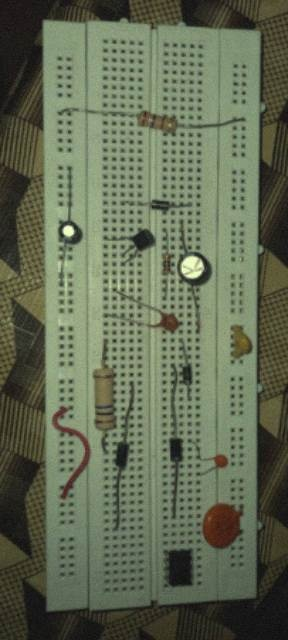capacitor: (202, 503, 241, 548), (177, 250, 209, 284), (232, 329, 252, 357), (58, 220, 79, 241), (161, 314, 178, 333), (215, 454, 228, 469)
resistor: (93, 368, 117, 429), (137, 108, 177, 134), (163, 254, 172, 275)
